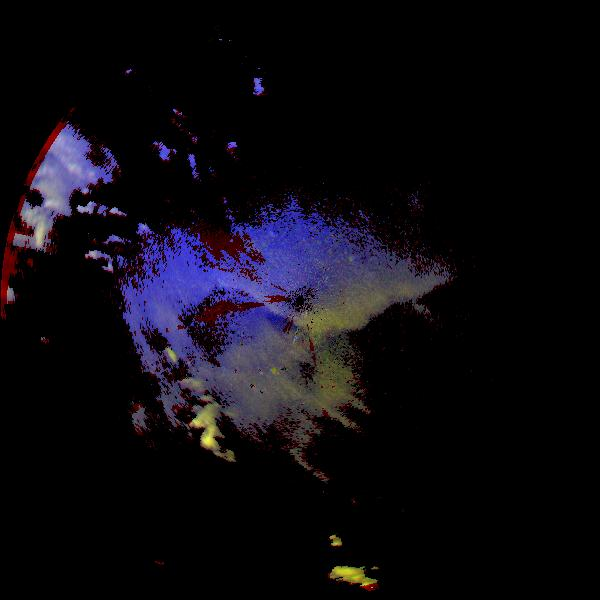roost: (157, 347, 181, 371)
